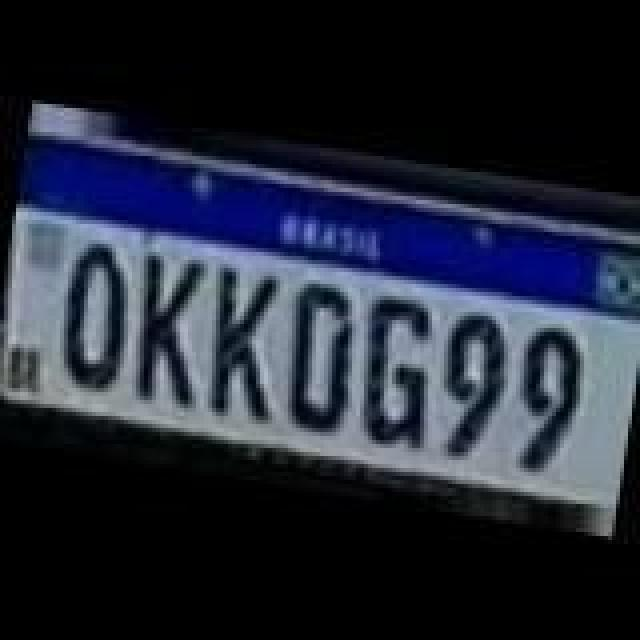9: (496, 320, 592, 480), (426, 304, 518, 464)
D: (276, 286, 364, 434)
G: (352, 290, 448, 446)
K: (118, 246, 218, 410), (194, 264, 286, 424)
O: (48, 236, 144, 388)
